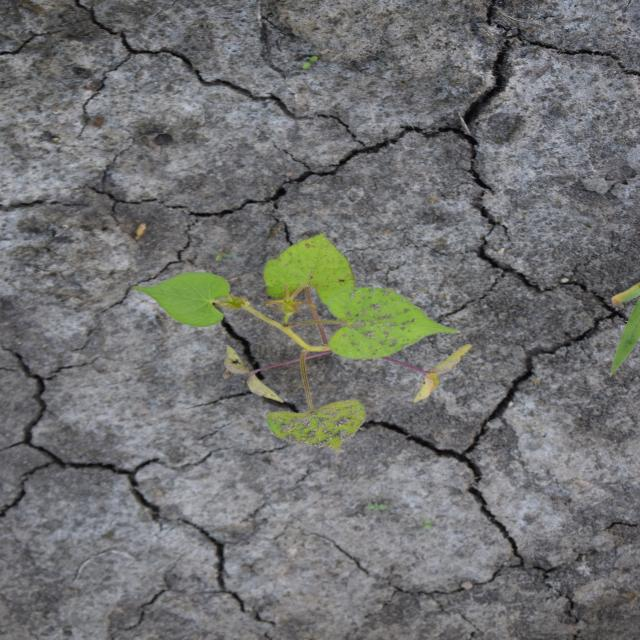MorningGlory: (131, 231, 474, 453)
